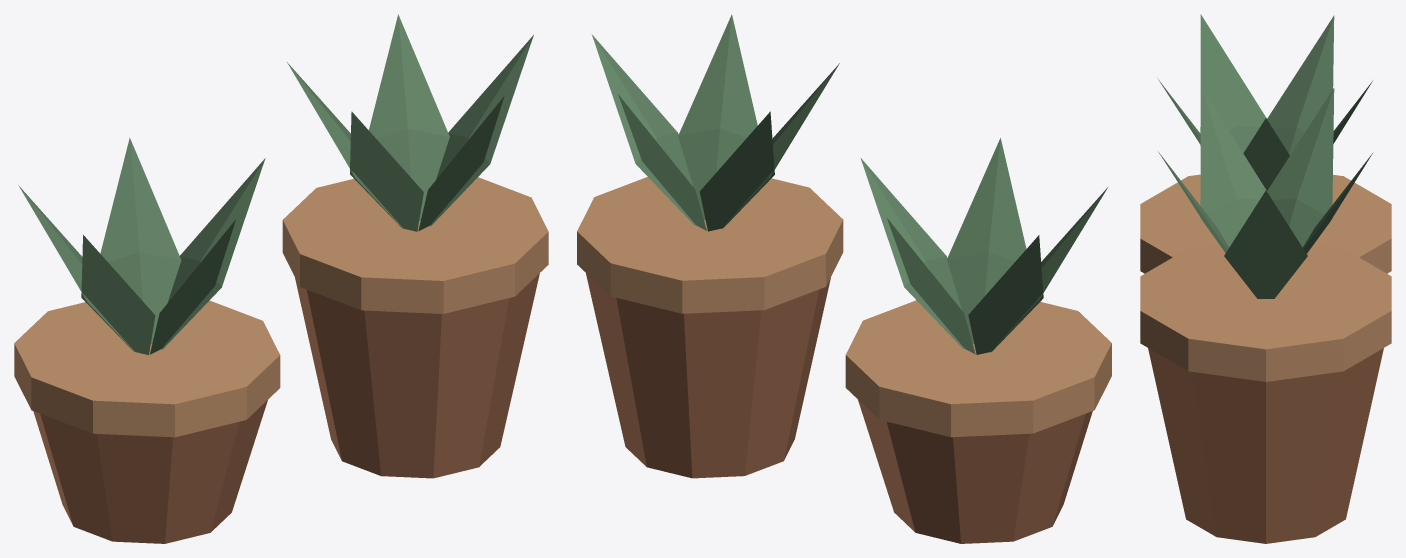
Rendered from map-exclusive-v3__village_06.glb.
3 views of the same model, side by side, from view 1: azimuth 30°, elevation 25°; view 2: azimuth 150°, elevation 25°; view 3: azimuth 270°, elevation 25° (orthographic).
Visible parts, largest first — view 1: village_06; view 2: village_06; view 3: village_06.
Part boxes in pixels (box(x1,y1,x2,y2)): village_06: box(14, 14, 548, 543); village_06: box(577, 14, 1111, 543); village_06: box(1140, 14, 1391, 543).
Bounding box in the file's own units: 1.91 × 1.38 × 0.837.
